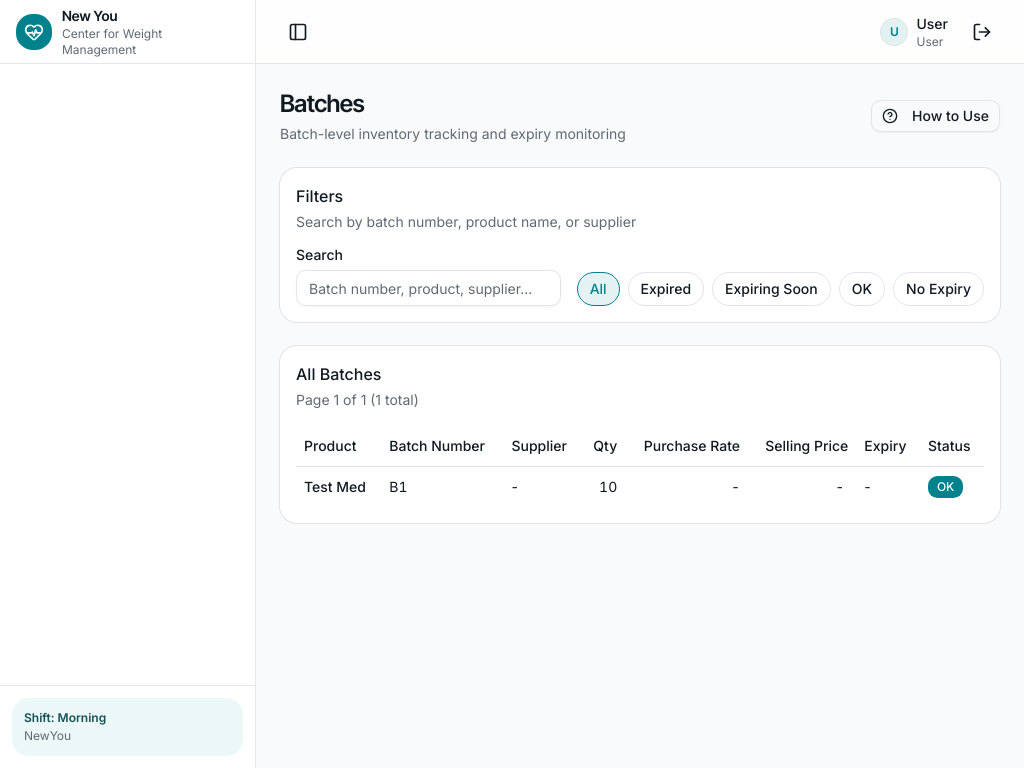
Scenario: BatchesPage selling price › saves the new selling price only after the modal is confirmed
The image size is (1024, 768).
Click the button "-" at x=840, y=486, box 831,474 -> 848,498
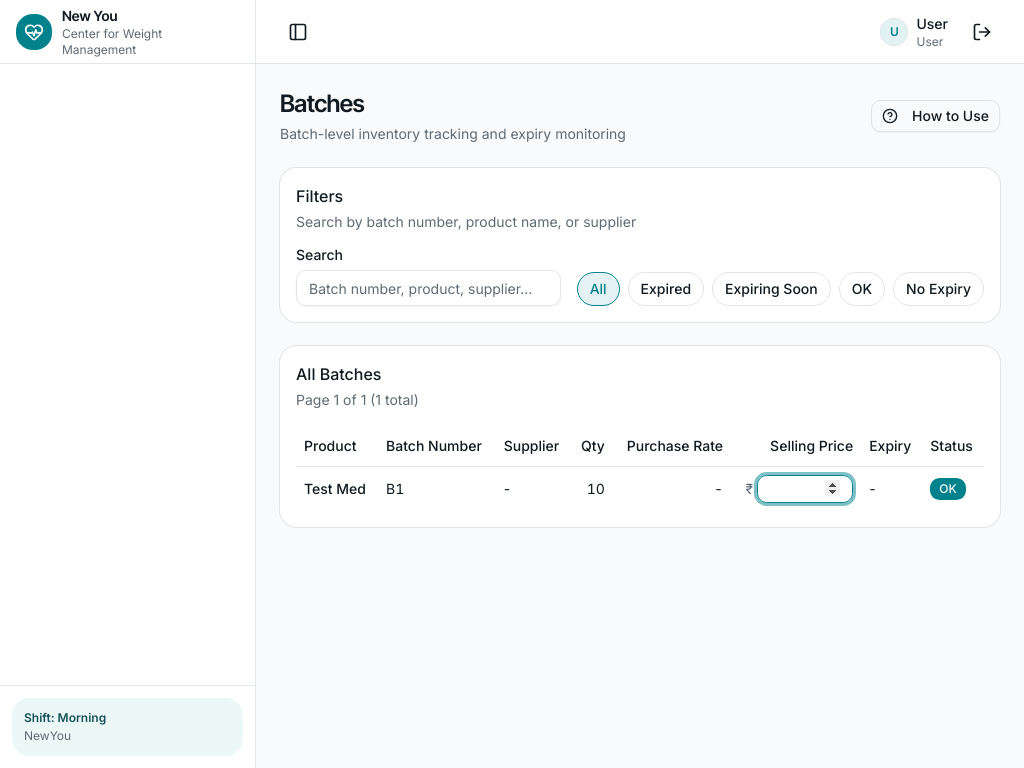
Type "50" into the number field at x=805, y=488, box 757,474 -> 853,502
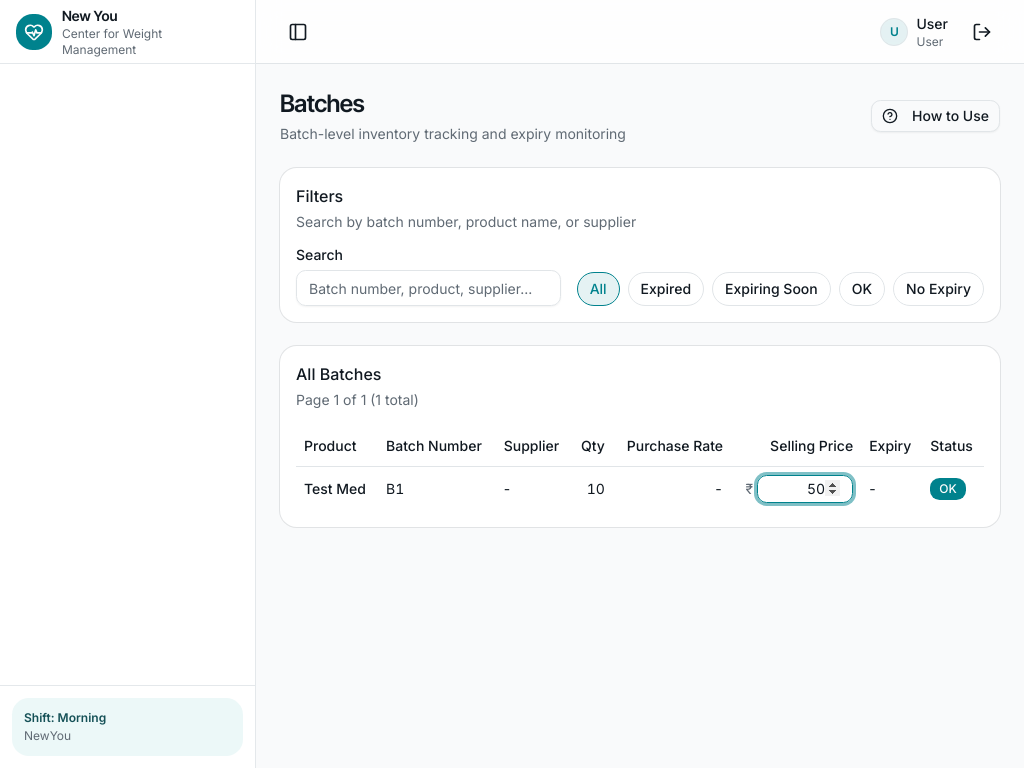
Leave the number field, box 757,474 -> 853,502
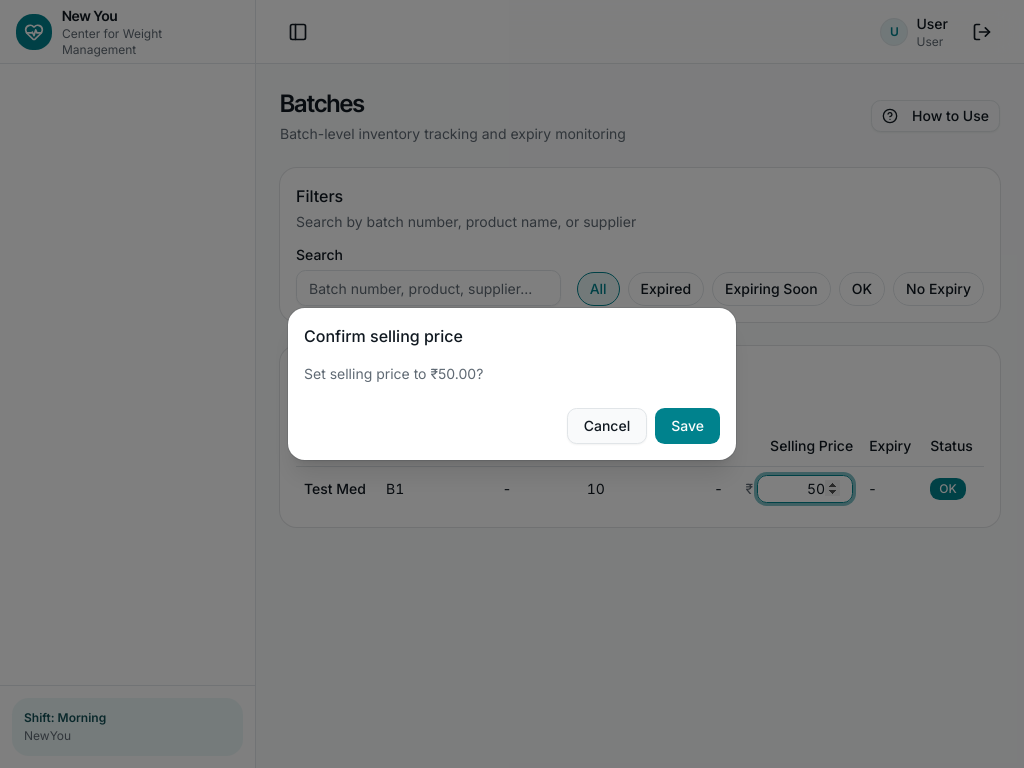
Expected: the text "Confirm selling price" is shown, 304,326 -> 463,346
Click the button "Save" at x=688, y=426, box 655,408 -> 720,444
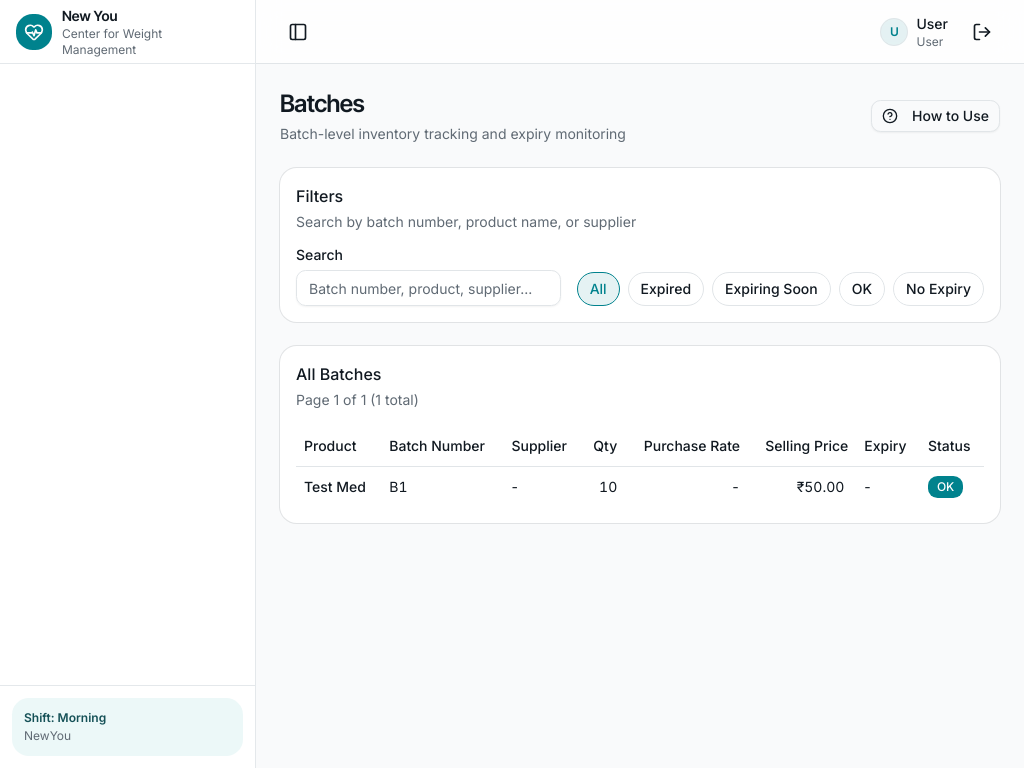
Expected: the button "₹50.00" is shown, 793,474 -> 848,498
Expected: the text "Confirm selling price" is gone
